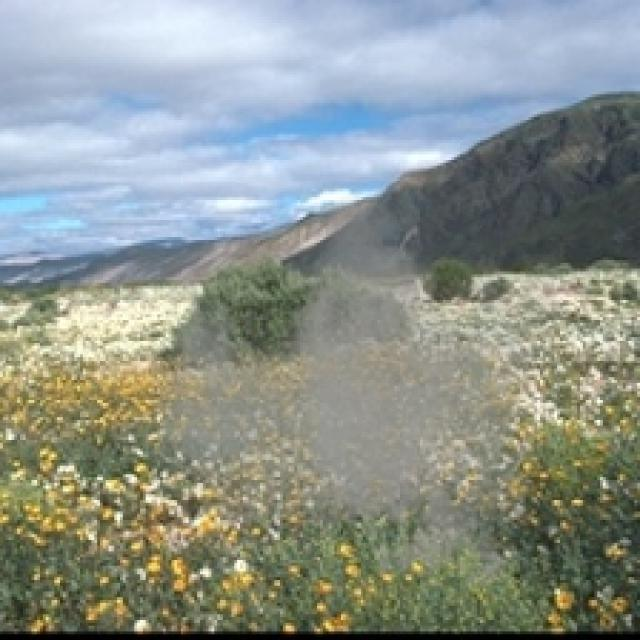smoke: (145, 180, 566, 603)
